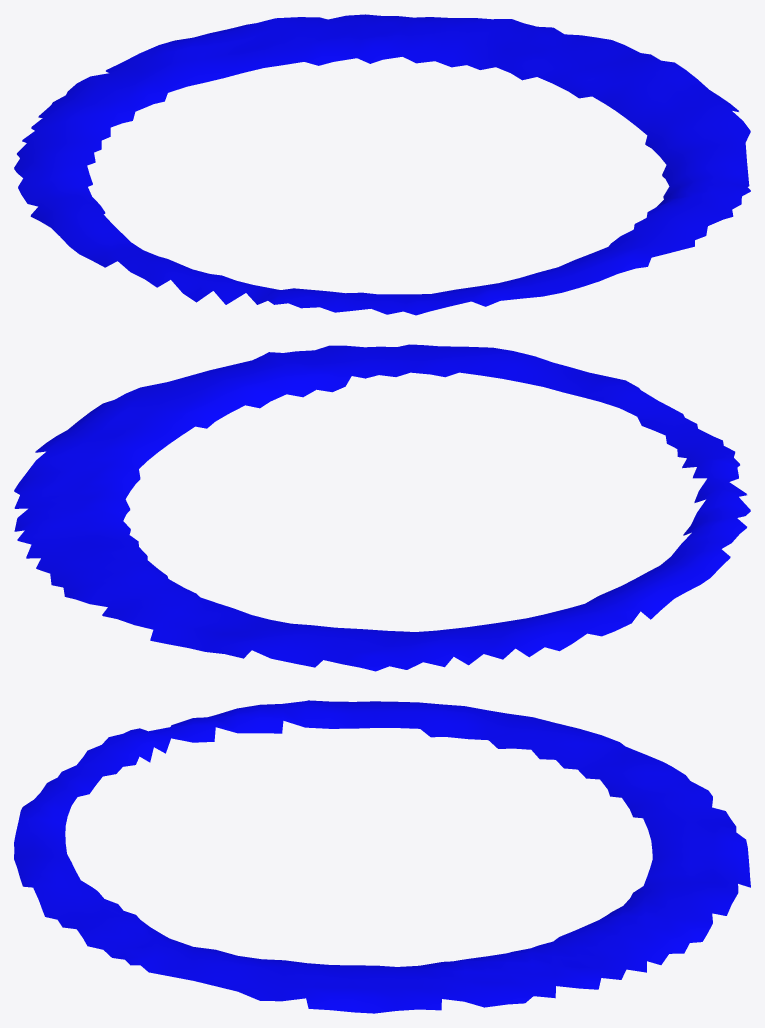
3 renders of one model, top to bottom at view 1: azimuth 30°, elevation 25°; view 2: azimuth 150°, elevation 25°; view 3: azimuth 270°, elevation 25°, orthographic.
Visible parts, largest first — view 1: ET_localisation3; view 2: ET_localisation3; view 3: ET_localisation3.
Part boxes in pixels (box(x1,y1,x2,y2)): ET_localisation3: box(14, 14, 750, 315); ET_localisation3: box(14, 344, 750, 671); ET_localisation3: box(14, 700, 750, 1013).
Size of the model in its own units: 1.42 by 0.0569 by 1.43.
